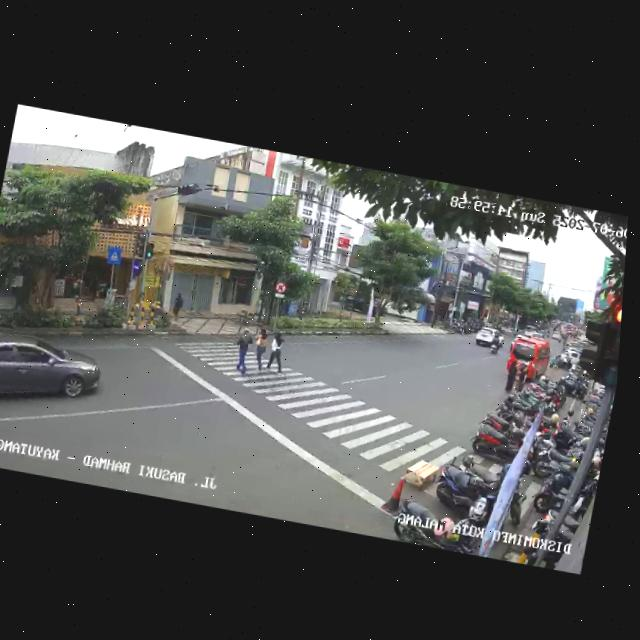car: (0, 327, 107, 429), (502, 332, 553, 389), (471, 326, 504, 353)
motorcycle: (487, 329, 504, 354)
person: (261, 328, 287, 382), (231, 328, 257, 379), (248, 324, 272, 376), (166, 290, 186, 326), (502, 354, 520, 393), (515, 361, 530, 394)
